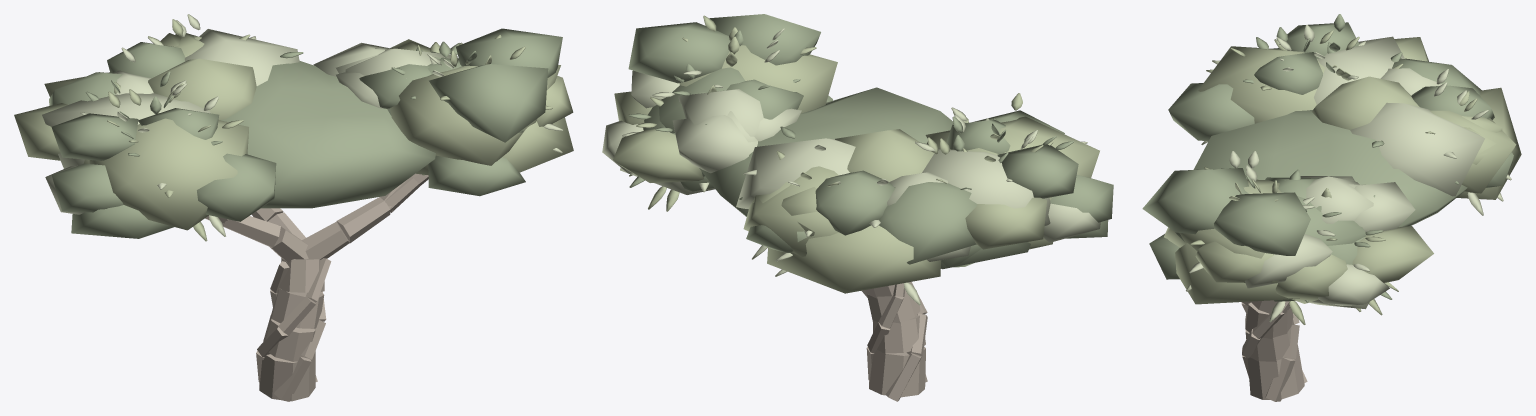
The model's file is Olive_Tree_1.gltf.
The picture shows the model from 3 angles, left to right: view 1: azimuth 30°, elevation 25°; view 2: azimuth 150°, elevation 25°; view 3: azimuth 270°, elevation 25°; orthographic projection. The views are drawn at different scales.
Visible parts, largest first — view 1: Olive_Tree_1; view 2: Olive_Tree_1; view 3: Olive_Tree_1.
Boxes of the visible parts, x1=… form: Olive_Tree_1: x1=14, y1=14, x2=573, y2=401; Olive_Tree_1: x1=602, y1=14, x2=1113, y2=401; Olive_Tree_1: x1=1142, y1=14, x2=1521, y2=401.
Bounding box in the file's own units: 4.66 × 2.93 × 3.23.
